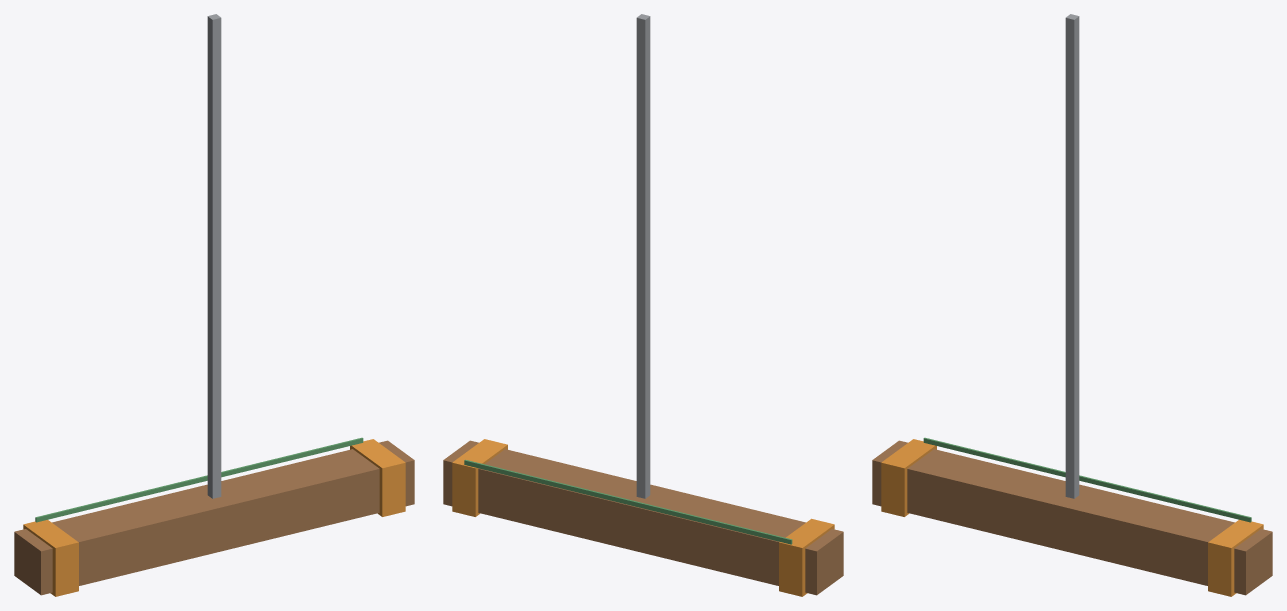
Rendered from 12_beam_pendulum.glb.
3 views of the same model, side by side, from view 1: azimuth 30°, elevation 25°; view 2: azimuth 150°, elevation 25°; view 3: azimuth 330°, elevation 25° (orthographic).
Visible parts, largest first — view 1: beam_pendulum_hammer_dyn_steelrust, beam_pendulum_hammer_dyn_steel, beam_pendulum_hammer_dyn_hazard, beam_pendulum_hammer_dyn_safetynet_nocol; view 2: beam_pendulum_hammer_dyn_steelrust, beam_pendulum_hammer_dyn_steel, beam_pendulum_hammer_dyn_hazard, beam_pendulum_hammer_dyn_safetynet_nocol; view 3: beam_pendulum_hammer_dyn_steelrust, beam_pendulum_hammer_dyn_steel, beam_pendulum_hammer_dyn_hazard, beam_pendulum_hammer_dyn_safetynet_nocol.
Boxes of the visible parts, x1,y1,x2,y2 form: beam_pendulum_hammer_dyn_steelrust: [14, 440, 414, 595]; beam_pendulum_hammer_dyn_steel: [207, 14, 221, 498]; beam_pendulum_hammer_dyn_hazard: [23, 439, 405, 596]; beam_pendulum_hammer_dyn_safetynet_nocol: [35, 437, 363, 522]; beam_pendulum_hammer_dyn_steelrust: [443, 440, 843, 595]; beam_pendulum_hammer_dyn_steel: [636, 14, 650, 498]; beam_pendulum_hammer_dyn_hazard: [452, 439, 834, 596]; beam_pendulum_hammer_dyn_safetynet_nocol: [464, 459, 792, 544]; beam_pendulum_hammer_dyn_steelrust: [872, 440, 1272, 595]; beam_pendulum_hammer_dyn_steel: [1065, 14, 1079, 498]; beam_pendulum_hammer_dyn_hazard: [881, 439, 1263, 596]; beam_pendulum_hammer_dyn_safetynet_nocol: [923, 437, 1251, 522].
Bounding box in the file's own units: 16 × 21.5 × 2.4.
